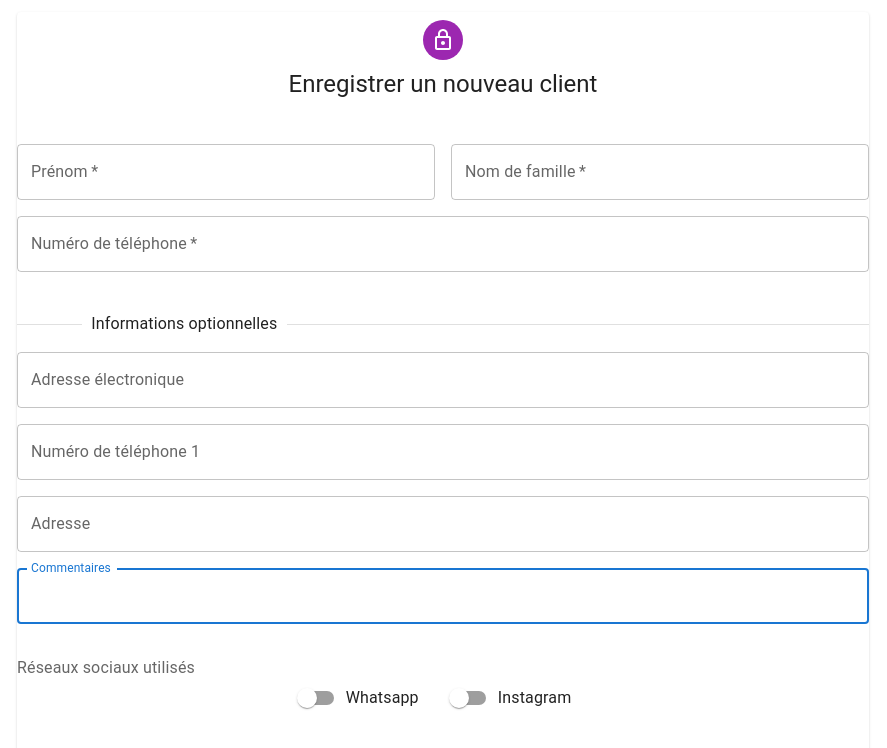
Test case: NewCustomer tests › Should load an error text if you enter a wrong input
expect the text "Seules les lettres sont autorisées ainsi que" is not shown: met
Type "0123" into the field labelled "Numéro de téléphone *" at (443, 244), box [17,216,869,272]
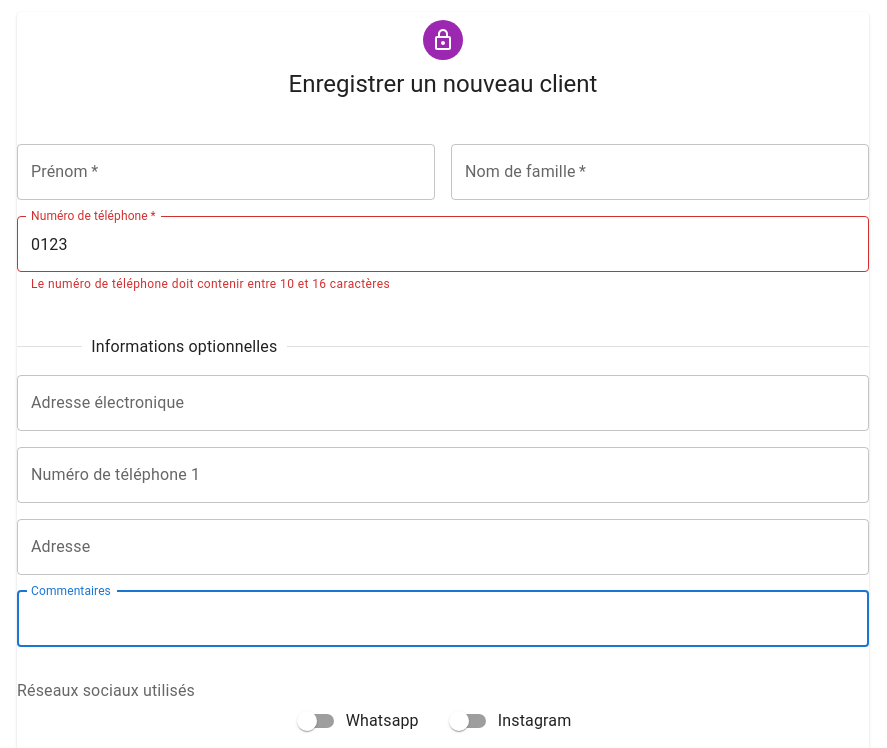
Type "1234" into the field labelled "Nom de famille *" at (660, 172), box [451,144,869,200]
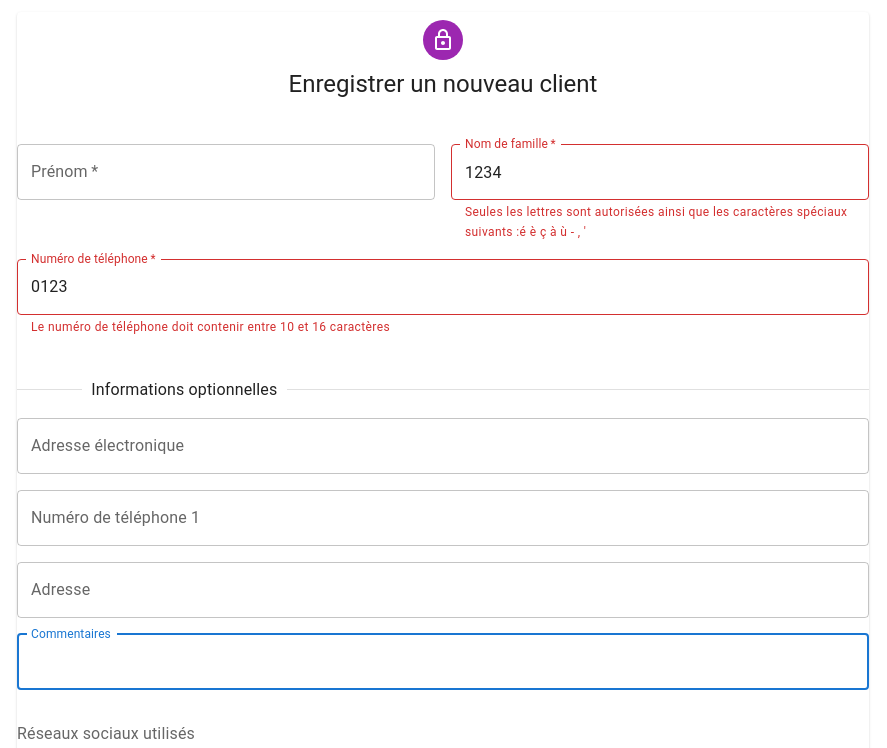
expect the text "Le numéro de téléphone doit contenir entre 10 et 16 caractères" is shown: met, box [31,320,390,334]
expect the text "Seules les lettres sont autorisées ainsi que" is shown: met, box [465,205,848,239]
